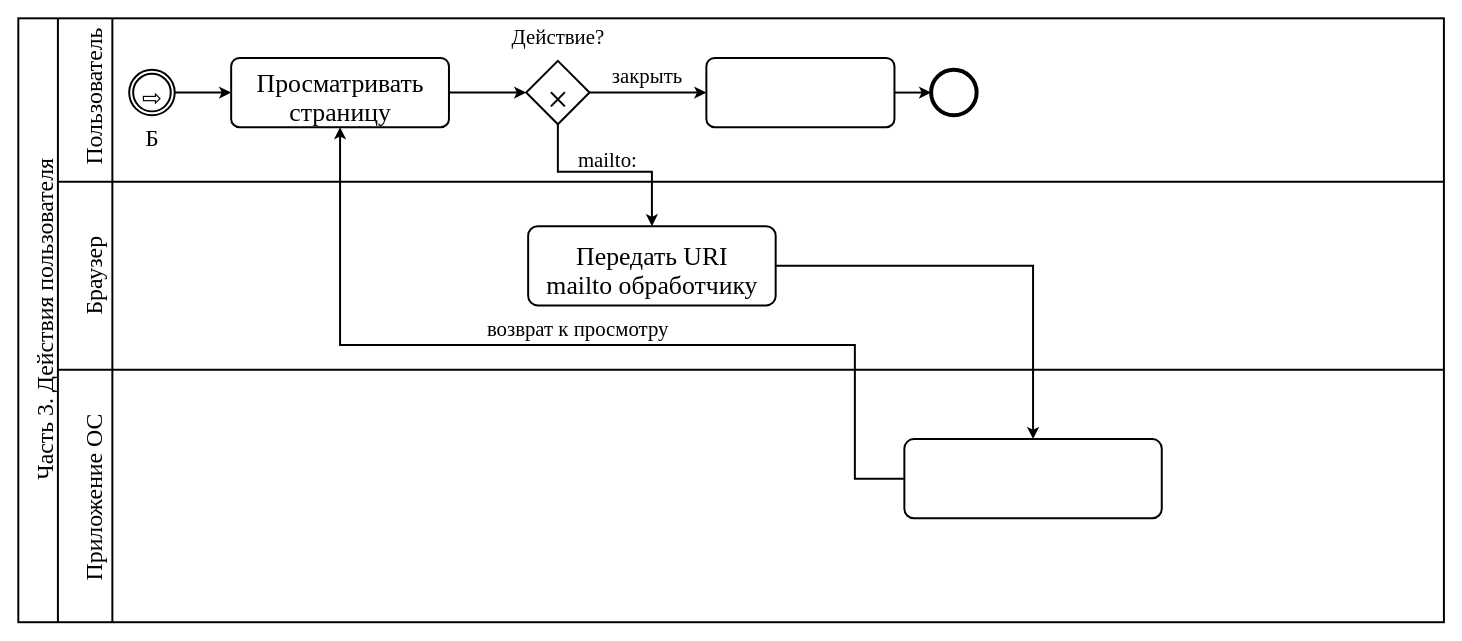
This 1462x641 diagram has some shape labels left out. Here are the shapes that lost their labels. From the top down, the centre of each, then its label:
At point 800,92: "Закрыть вкладку".
At point 1032,478: "Открыть окно создания письма".
